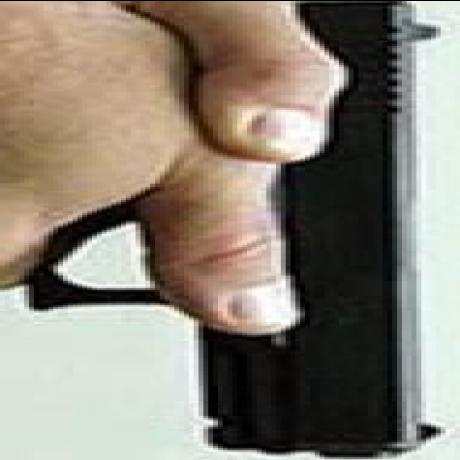weapon: (30, 172, 435, 458)
